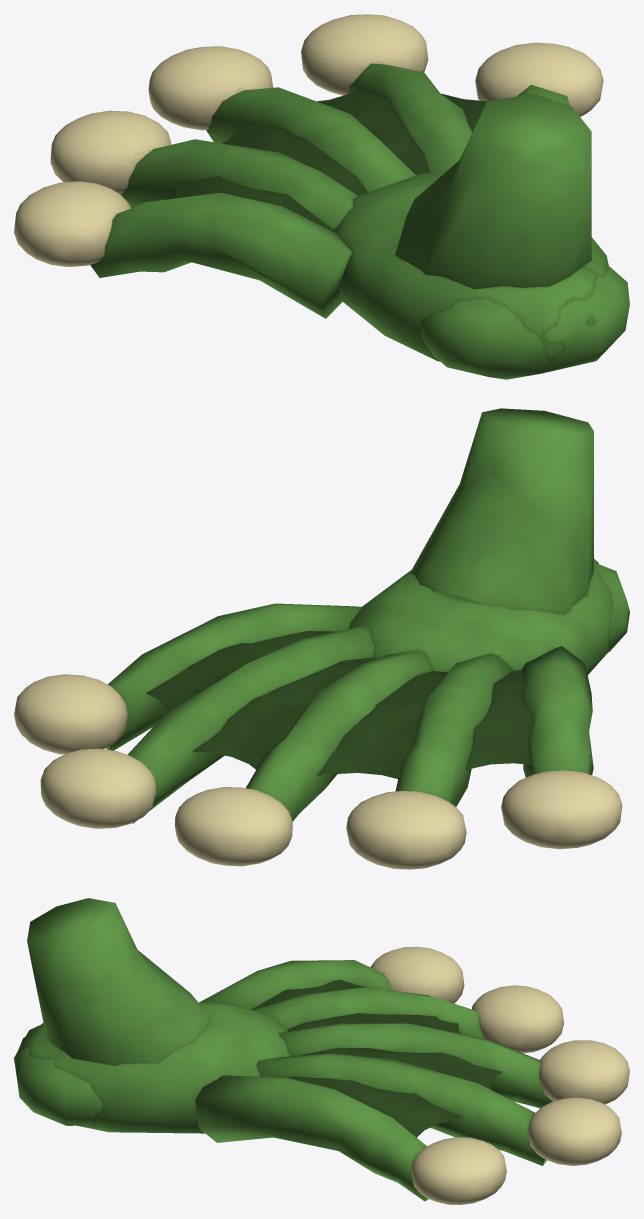
File: cpart_foot_frog.glb
3 views of the same model, one above another, from view 1: azimuth 30°, elevation 25°; view 2: azimuth 150°, elevation 25°; view 3: azimuth 270°, elevation 25° (orthographic). The views are drawn at different scales.
Visible parts, largest first — view 1: FootFrog, Pads, Web; view 2: FootFrog, Pads, Web; view 3: FootFrog, Pads, Web.
Part boxes in pixels (x1,y1,x2,y2): FootFrog: (90, 63, 629, 379); Pads: (14, 14, 603, 266); Web: (173, 88, 486, 231); FootFrog: (106, 408, 629, 823); Pads: (14, 674, 622, 869); Web: (146, 631, 533, 779); FootFrog: (14, 898, 553, 1201); Pads: (370, 946, 629, 1204); Web: (251, 980, 501, 1137).
Size of the model in its own units: 0.1058 by 0.0424 by 0.1185.
3 materials, 3 textured.
